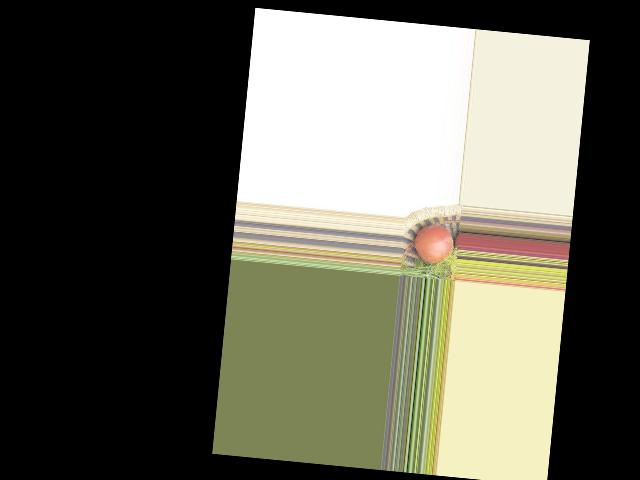tomato: (413, 223, 454, 266)
